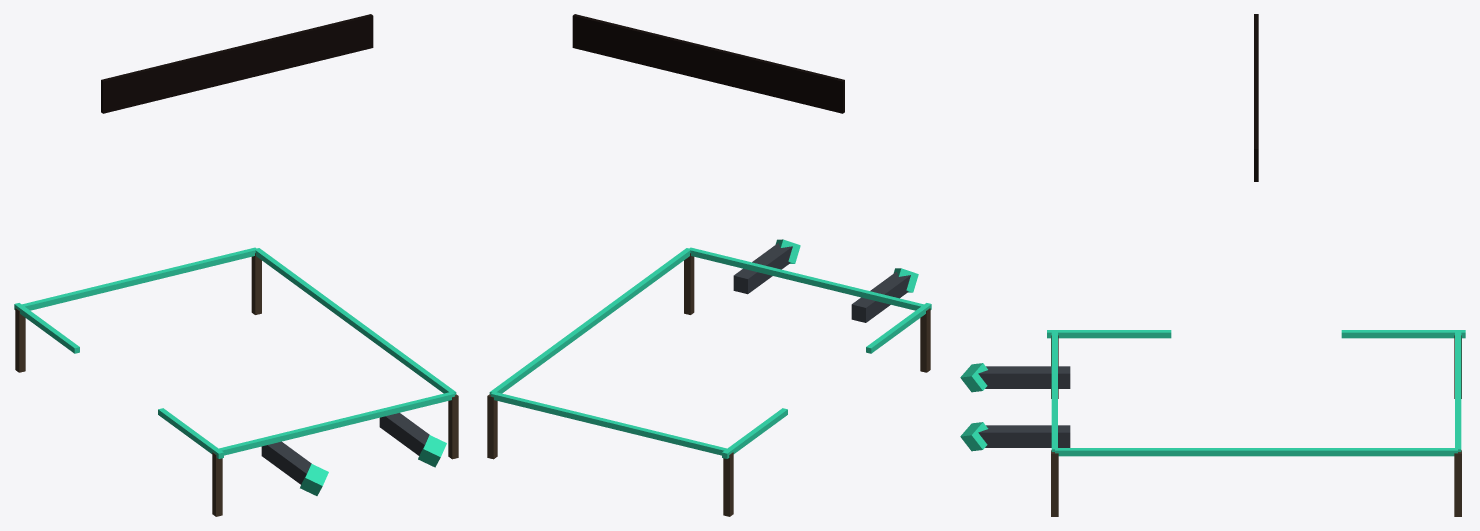
The model's file is skyfleet_bake2_15.glb.
3 views of the same model, side by side, from view 1: azimuth 30°, elevation 25°; view 2: azimuth 150°, elevation 25°; view 3: azimuth 270°, elevation 25° (orthographic). The views are drawn at different scales.
Parts seen in each view (by area): view 1: baked; view 2: baked; view 3: baked.
Boxes of the visible parts, x1,y1,x2,y2 form: baked: (14, 14, 458, 516); baked: (487, 14, 931, 516); baked: (960, 14, 1465, 516).
Bounding box in the file's own units: 4.12 × 5.34 × 6.52.
